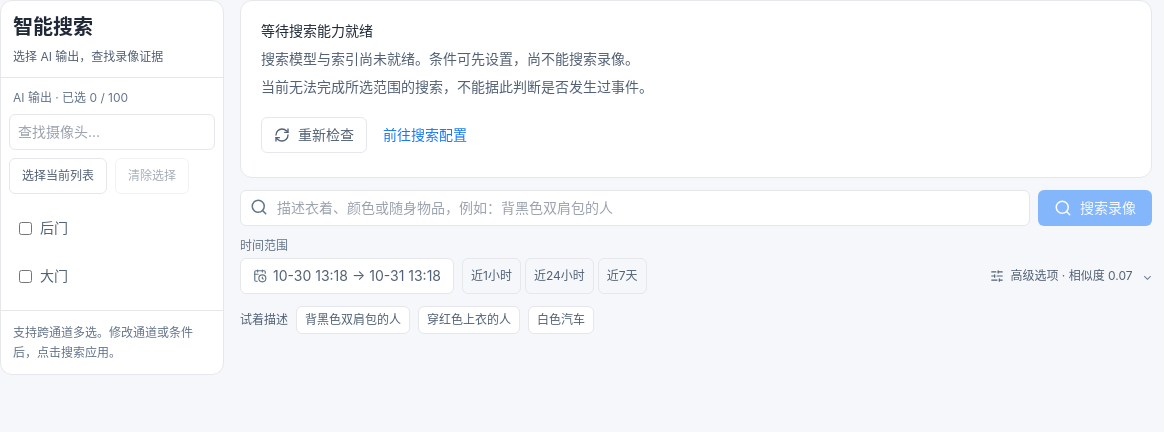
it: retry preserves the description and handles connection failure explicitly
The width and height of the screenshot is (1164, 432).
Expected: the checkbox labelled "后门" is shown, [19,222,32,234]
In the field named "想找什么？": x=635, y=208 [240,190,1030,226], type "黑色背包"
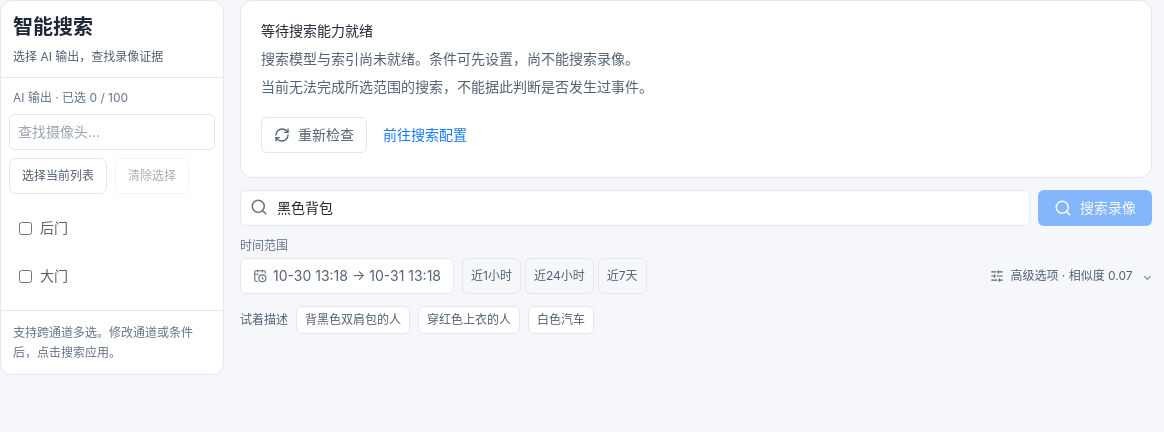
Click the button "重新检查": x=314, y=135 [261,117,367,153]
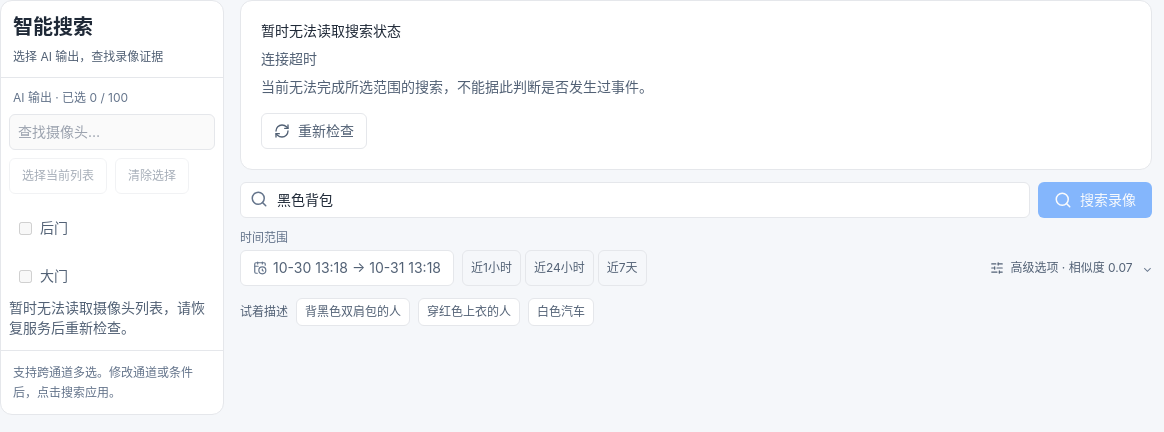
Now the message shows "连接超时", box [261,50,317,67]
